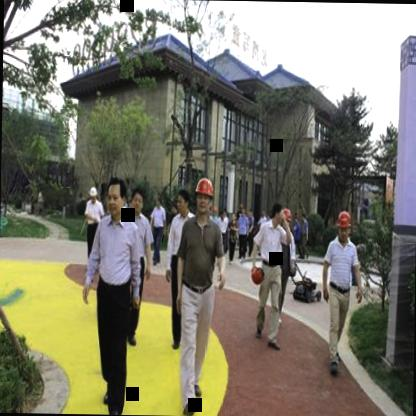head: (104, 176, 127, 218), (175, 184, 193, 219), (130, 186, 146, 218), (271, 198, 284, 223)
helmet: (193, 177, 214, 217), (334, 208, 356, 245), (282, 206, 294, 230), (88, 182, 99, 204)
